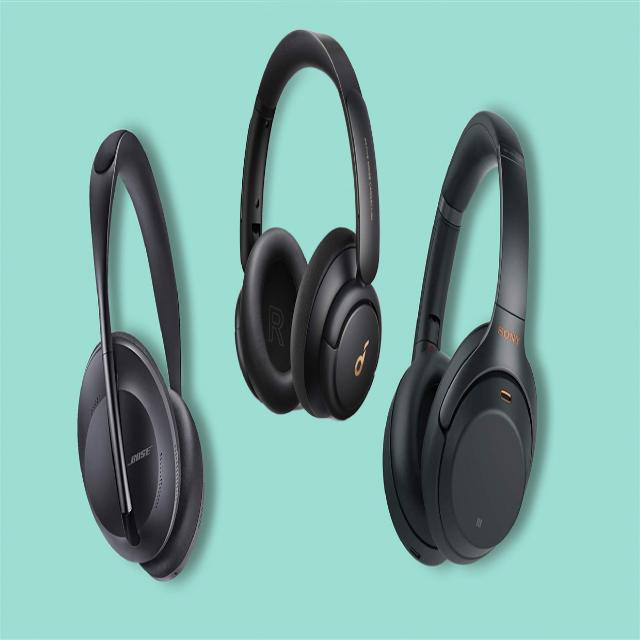Ear-protection: (382, 106, 551, 581), (58, 124, 216, 593), (220, 11, 382, 443)
